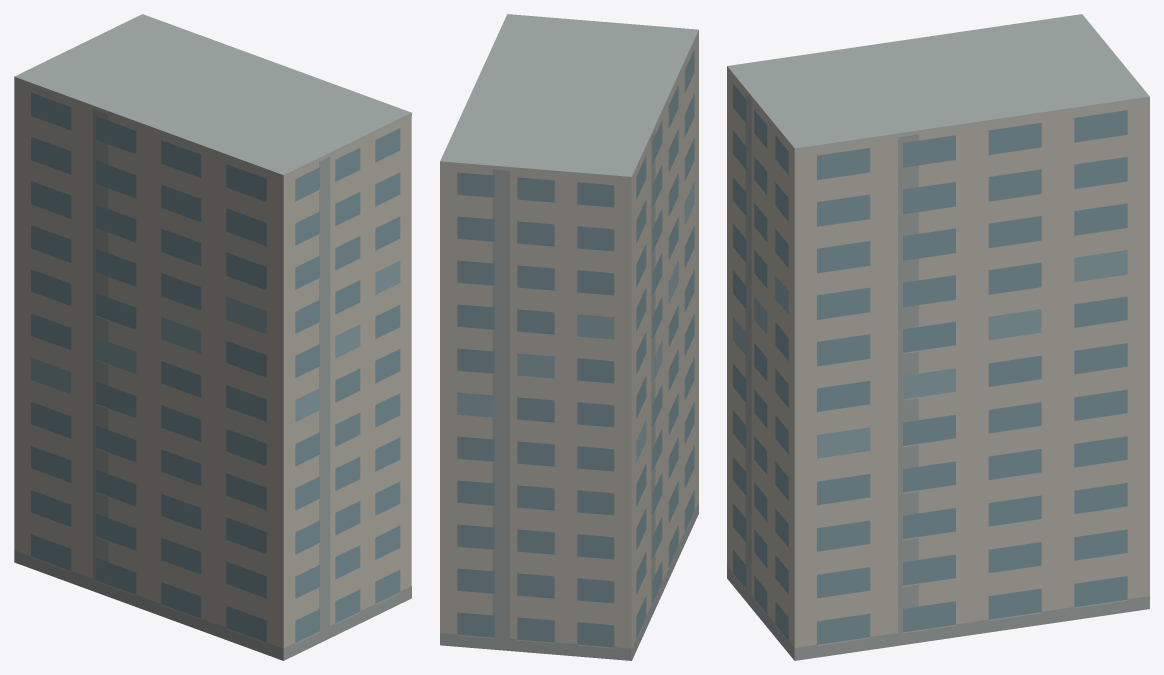
Rendered from residential-754b46d5-7667-4a63-96e9-8177025dffd9.glb.
3 views of the same model, side by side, from view 1: azimuth 30°, elevation 25°; view 2: azimuth 150°, elevation 25°; view 3: azimuth 270°, elevation 25° (orthographic). The views are drawn at different scales.
Visible parts, largest first — view 1: residential-754b46d5-7667-4a63-96e9-8177025dffd9.tmp; view 2: residential-754b46d5-7667-4a63-96e9-8177025dffd9.tmp; view 3: residential-754b46d5-7667-4a63-96e9-8177025dffd9.tmp.
Part boxes in pixels (bbox=[...]): residential-754b46d5-7667-4a63-96e9-8177025dffd9.tmp: bbox=[14, 14, 411, 660]; residential-754b46d5-7667-4a63-96e9-8177025dffd9.tmp: bbox=[440, 14, 698, 660]; residential-754b46d5-7667-4a63-96e9-8177025dffd9.tmp: bbox=[727, 14, 1149, 660].
Bounding box in the file's own units: 17.46 × 31 × 23.19.
